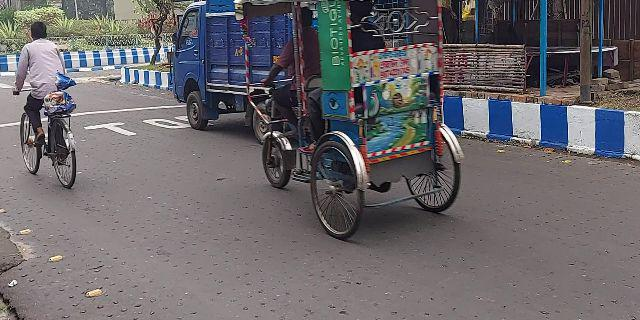Cycle: (8, 17, 99, 200)
Minitruck: (167, 1, 303, 147)
Rickshaw: (236, 2, 500, 241)
